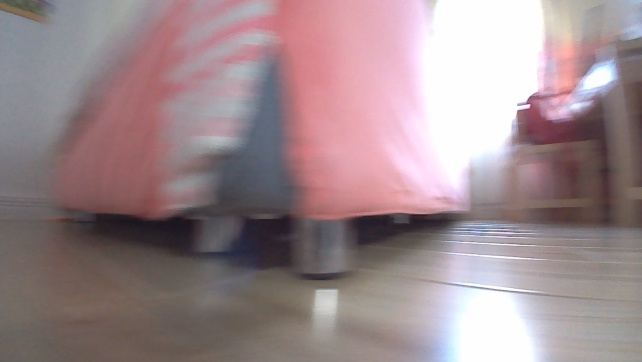bed1: (48, 0, 475, 282)
